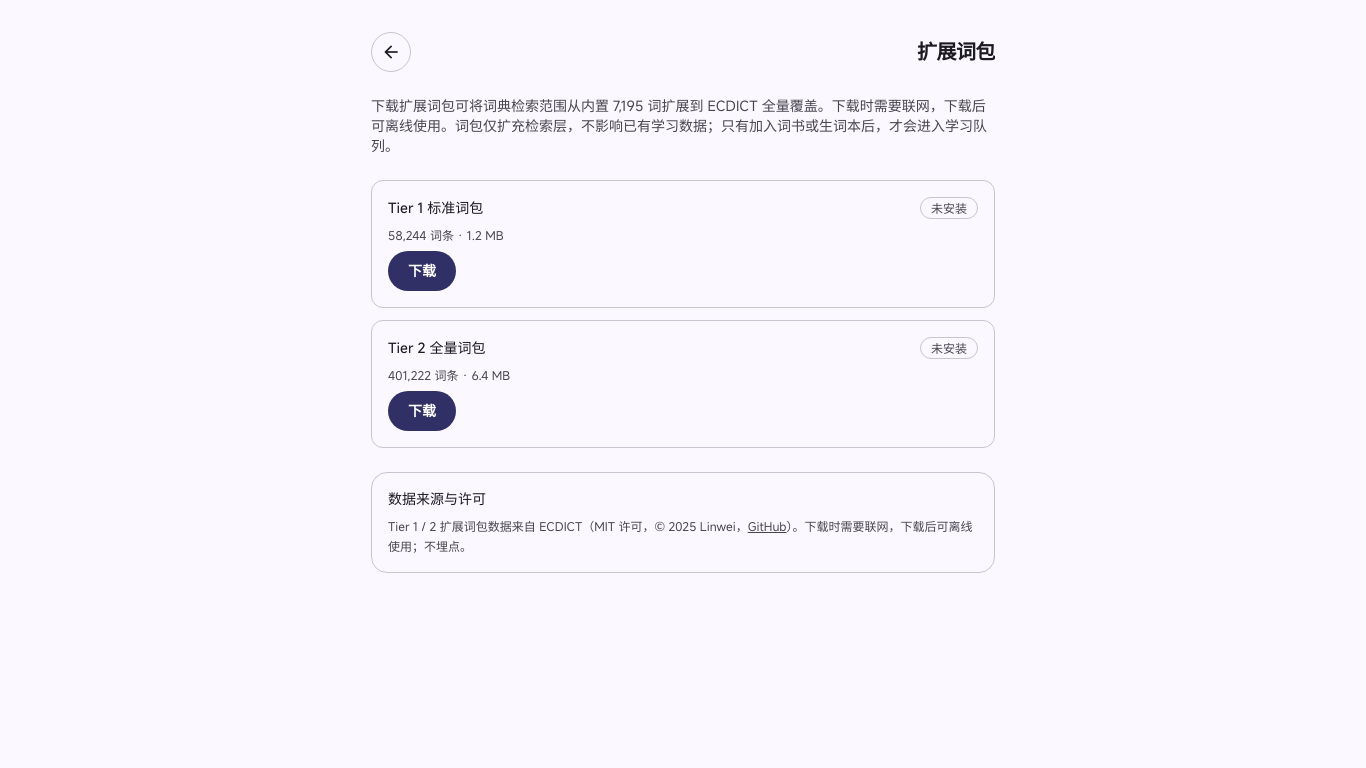
Test case: DictionaryPackagesScreen › 并发错误展示可读文案（非内部哨兵）
Note: 点击下载 → 确认
What coordinates should you click on to do the following:
click the button "下载" below "58,244"
I would click on:
 (422, 271)
Its box is [388, 251, 456, 291].
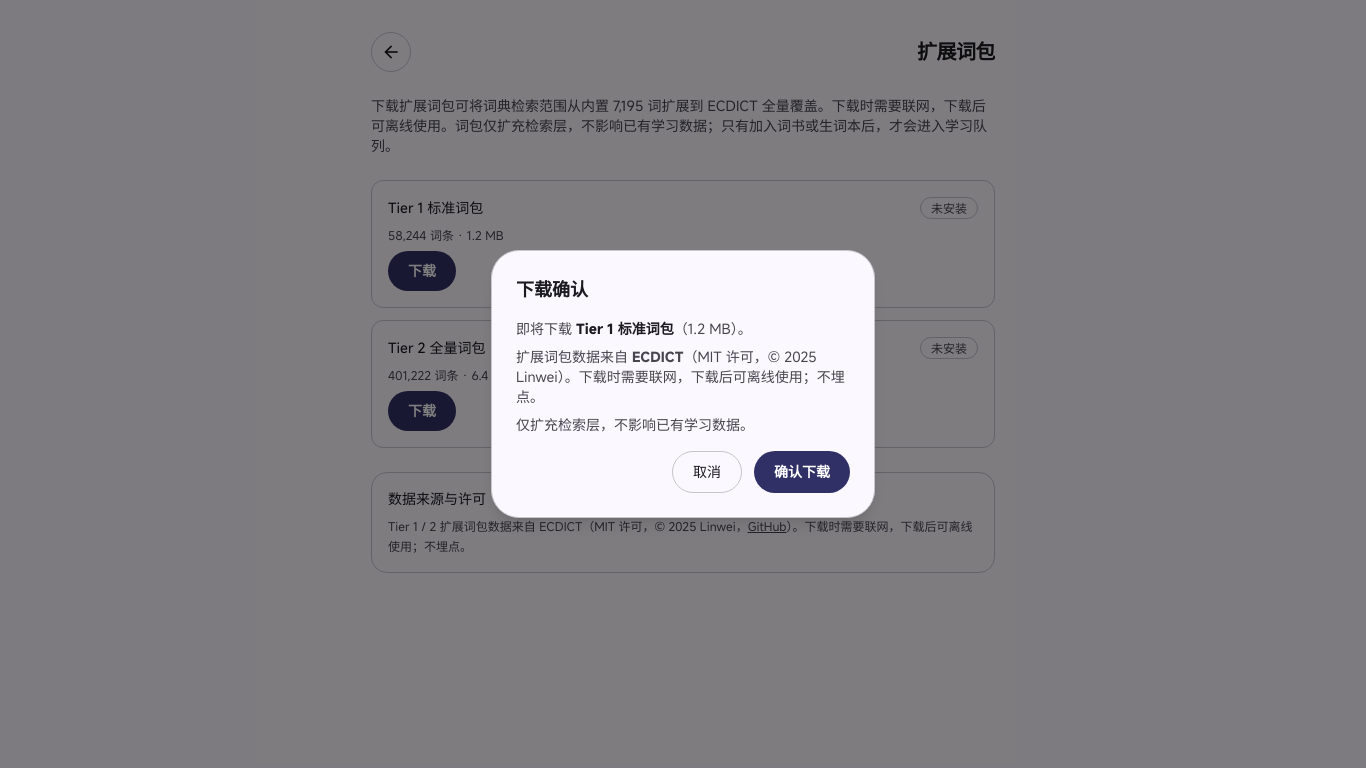
Now the button "确认下载" is shown
What coordinates should you click on to do the following:
click the button "确认下载"
I would click on:
 (802, 472)
Its box is [754, 451, 850, 493].
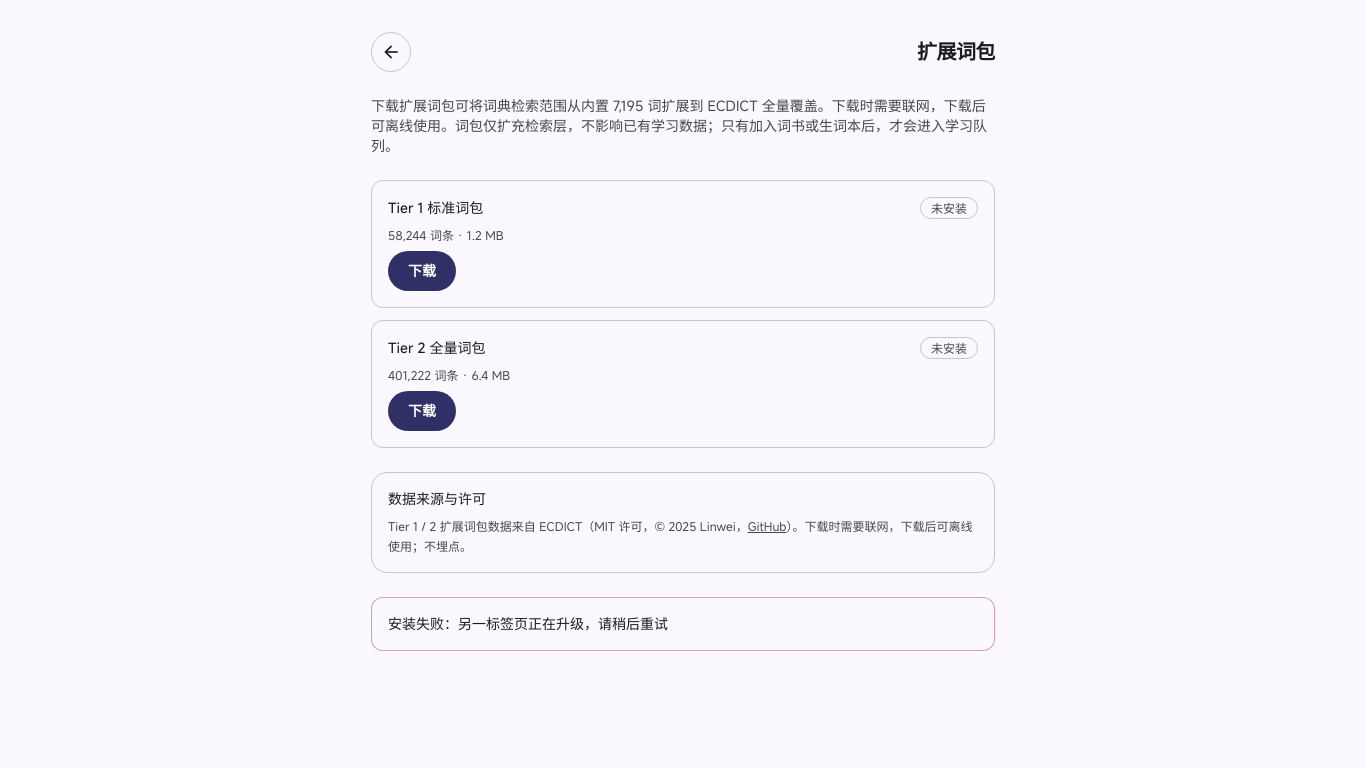
Now the text "安装失败：另一标签页正在升级，请稍后重试" is shown, box [371, 597, 995, 651]
